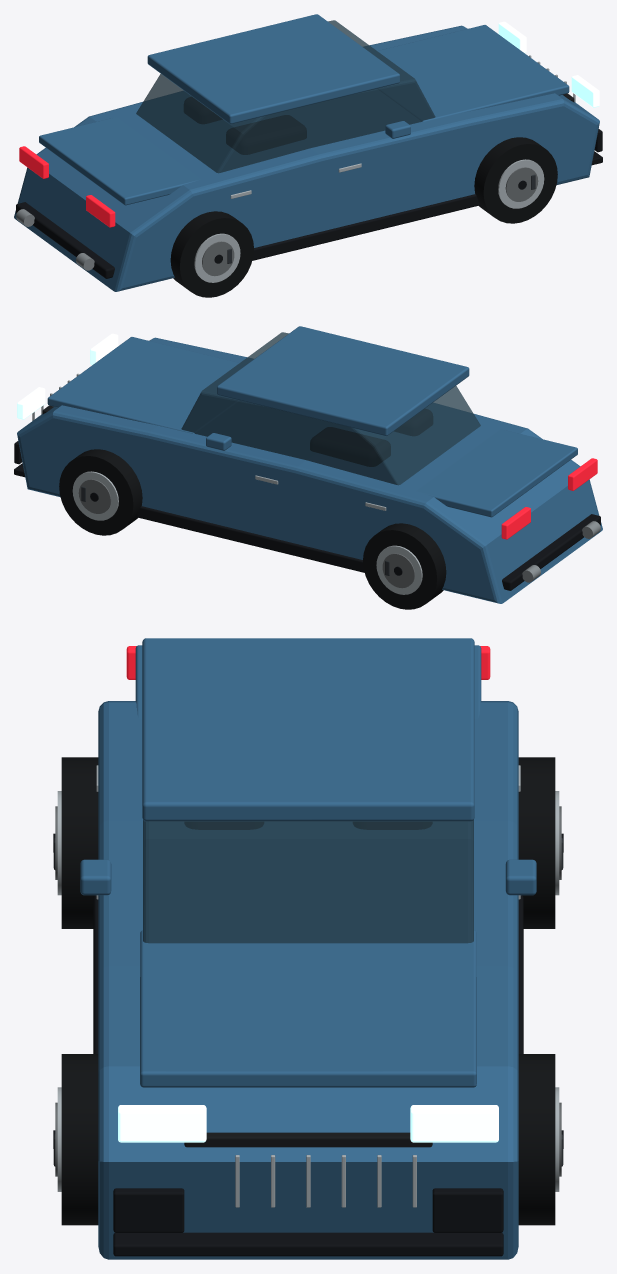
The model's file is chevy_caprice_ppv.glb.
The picture shows the model from 3 angles, top to bottom: view 1: azimuth 30°, elevation 25°; view 2: azimuth 150°, elevation 25°; view 3: azimuth 270°, elevation 25°; orthographic projection. The views are drawn at different scales.
Visible parts, largest first — view 1: sculpted_body, roof, glasshouse, hood_center, rear_deck, rear_right_wheel_tire, front_right_wheel_tire, side_skirt_1, seat_1, rear_diffuser, front_right_wheel_rim, rear_right_wheel_rim (+7 smaller); view 2: sculpted_body, roof, glasshouse, hood_center, rear_deck, rear_left_wheel_tire, front_left_wheel_tire, side_skirt_-1, seat_-1, rear_diffuser, front_left_wheel_rim, rear_left_wheel_rim (+7 smaller); view 3: sculpted_body, roof, hood_center, glasshouse, front_splitter, front_left_wheel_tire, front_right_wheel_tire, rear_left_wheel_tire, rear_right_wheel_tire, front_grille, headlight_left, headlight_right (+7 smaller).
Boxes of the visible parts, x1=… form: sculpted_body: x1=14, y1=25, x2=599, y2=291; roof: x1=147, y1=14, x2=399, y2=124; glasshouse: x1=136, y1=20, x2=435, y2=173; hood_center: x1=372, y1=25, x2=569, y2=121; rear_deck: x1=39, y1=117, x2=200, y2=205; rear_right_wheel_tire: x1=170, y1=211, x2=253, y2=297; front_right_wheel_tire: x1=474, y1=137, x2=557, y2=223; side_skirt_1: x1=252, y1=194, x2=480, y2=260; seat_1: x1=226, y1=115, x2=306, y2=154; rear_diffuser: x1=16, y1=202, x2=114, y2=278; front_right_wheel_rim: x1=498, y1=159, x2=544, y2=208; rear_right_wheel_rim: x1=194, y1=233, x2=240, y2=282; sculpted_body: x1=17, y1=337, x2=602, y2=603; roof: x1=217, y1=326, x2=469, y2=436; glasshouse: x1=181, y1=332, x2=480, y2=485; hood_center: x1=47, y1=337, x2=244, y2=433; rear_deck: x1=416, y1=429, x2=577, y2=517; rear_left_wheel_tire: x1=363, y1=523, x2=446, y2=609; front_left_wheel_tire: x1=59, y1=449, x2=142, y2=535; side_skirt_-1: x1=136, y1=506, x2=364, y2=572; seat_-1: x1=310, y1=427, x2=390, y2=466; rear_diffuser: x1=502, y1=514, x2=600, y2=590; front_left_wheel_rim: x1=72, y1=471, x2=118, y2=520; rear_left_wheel_rim: x1=376, y1=545, x2=422, y2=594; sculpted_body: x1=98, y1=701, x2=518, y2=1259; roof: x1=142, y1=638, x2=474, y2=821; hood_center: x1=140, y1=930, x2=476, y2=1087; glasshouse: x1=143, y1=820, x2=473, y2=943; front_splitter: x1=113, y1=1232, x2=503, y2=1256; front_left_wheel_tire: x1=518, y1=1054, x2=555, y2=1225; front_right_wheel_tire: x1=61, y1=1054, x2=98, y2=1225; rear_left_wheel_tire: x1=518, y1=757, x2=555, y2=928; rear_right_wheel_tire: x1=61, y1=757, x2=98, y2=928; front_grille: x1=184, y1=1132, x2=432, y2=1147; headlight_left: x1=410, y1=1105, x2=498, y2=1142; headlight_right: x1=118, y1=1105, x2=206, y2=1142.
Bounding box in the file's own units: 4.92 × 1.47 × 2.14.
